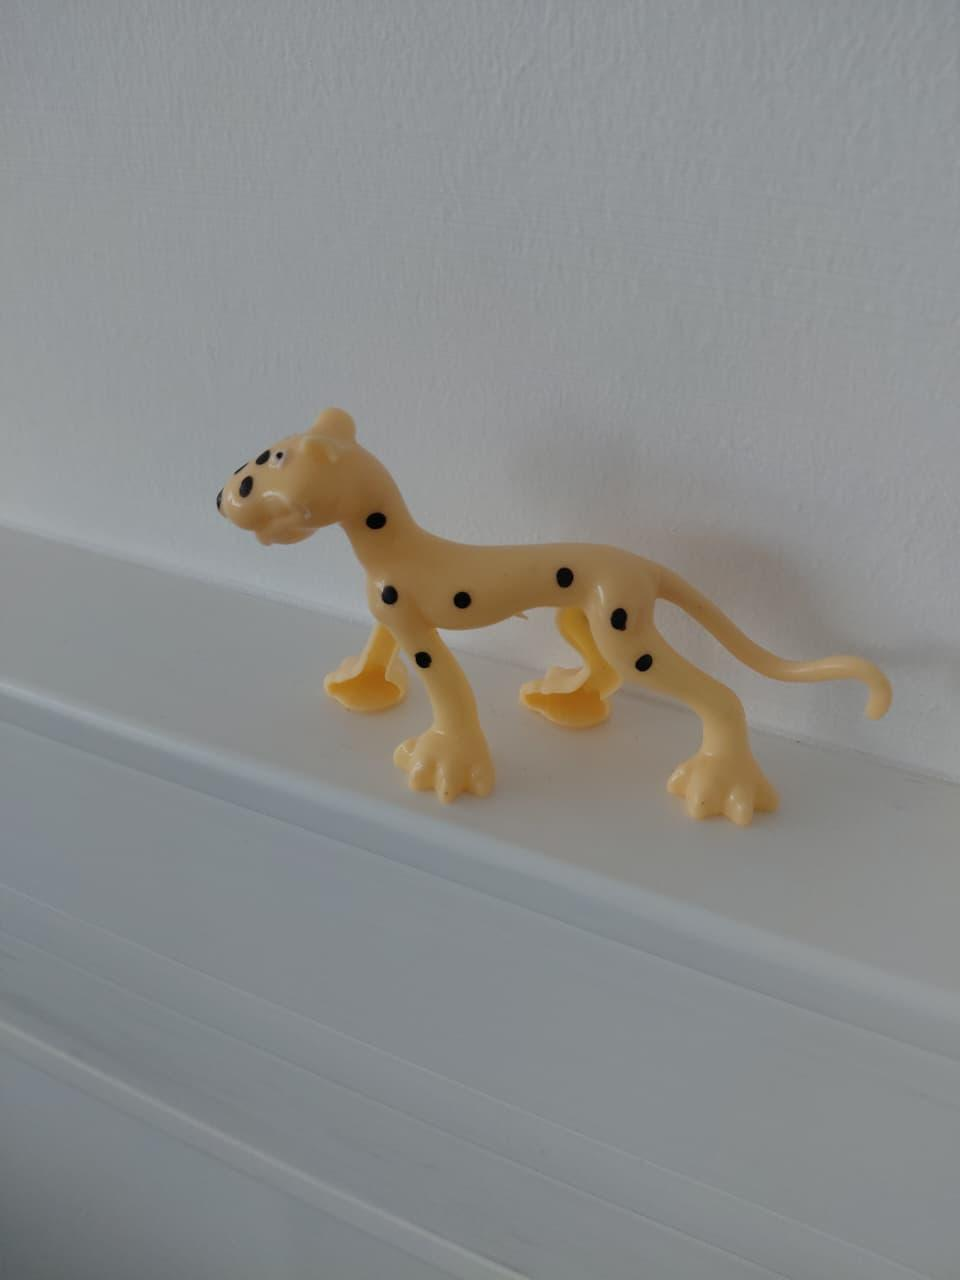cheetah: (190, 378, 928, 915)
